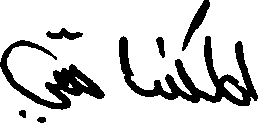أ: (117, 33, 134, 93)
ا: (233, 38, 255, 106)
س: (61, 59, 102, 110)
ك: (175, 0, 203, 103)
ل: (202, 0, 235, 78)
م: (208, 75, 246, 108)
ن: (153, 35, 166, 100)
ي: (0, 25, 63, 121)
